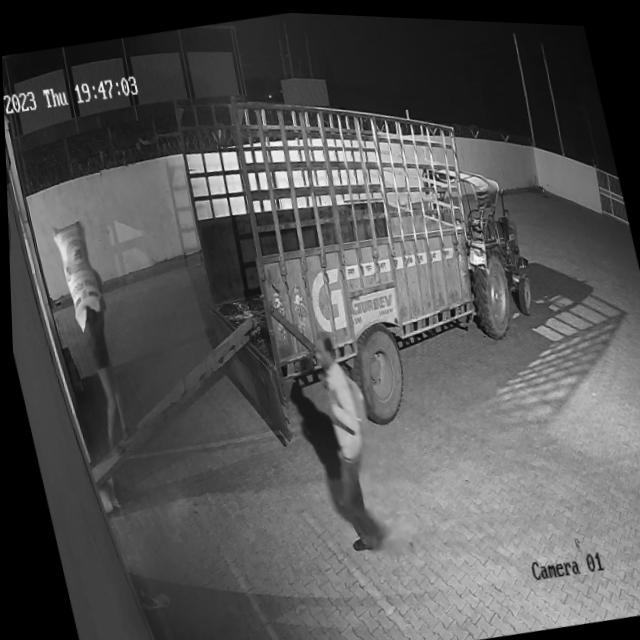sack: (48, 218, 106, 331)
